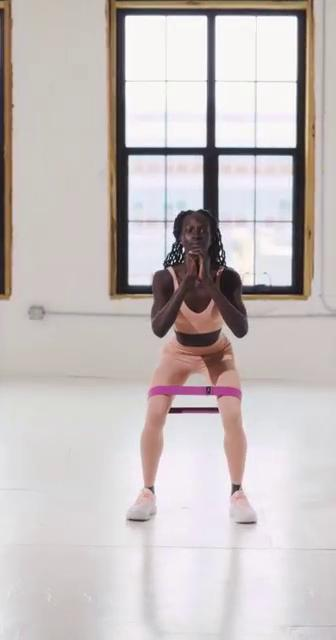Prepare: (123, 204, 278, 536)
